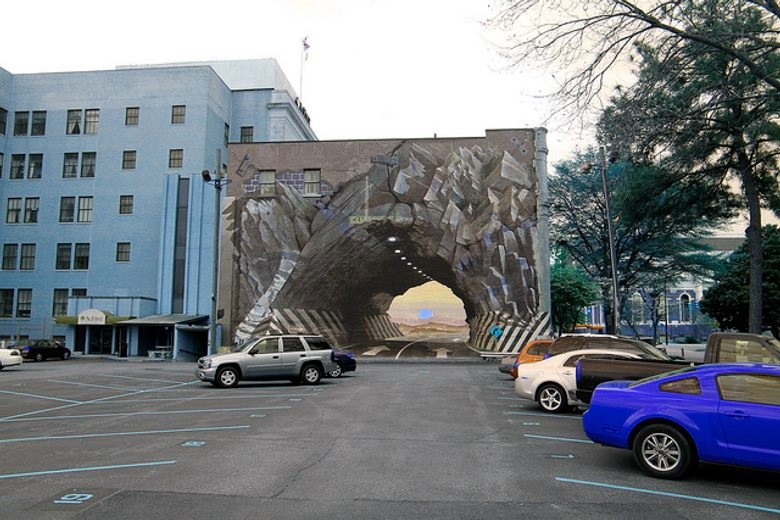painting: (212, 127, 538, 367)
